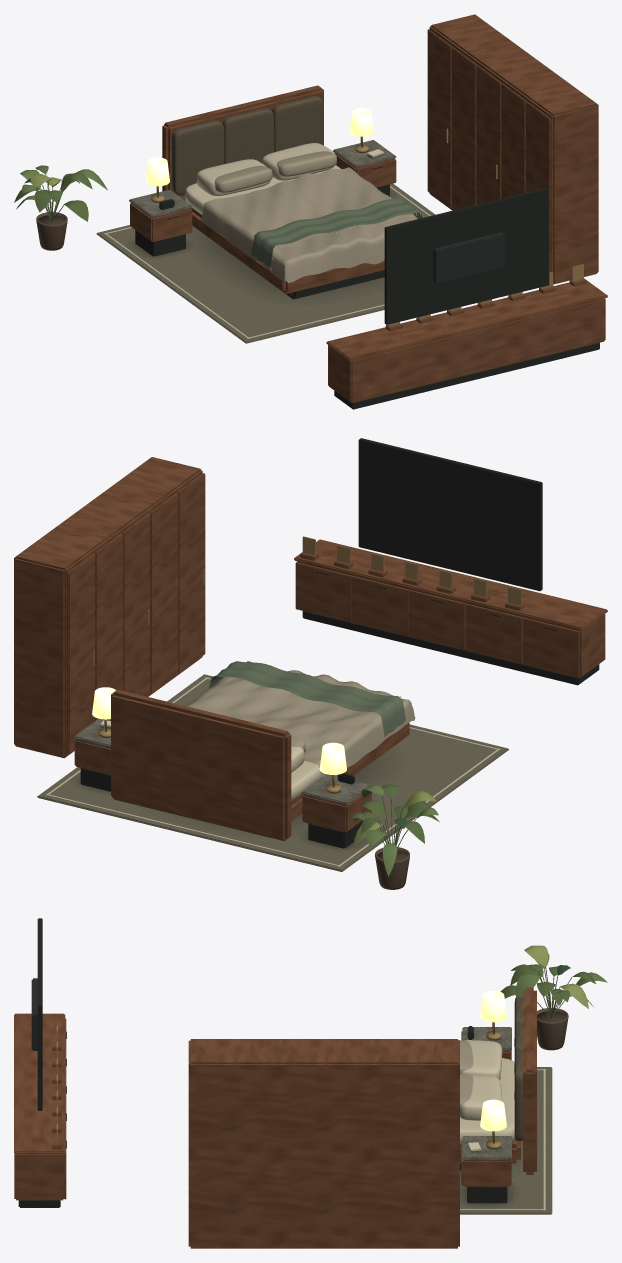
File: bed.glb
3 renders of one model, top to bottom at view 1: azimuth 30°, elevation 25°; view 2: azimuth 150°, elevation 25°; view 3: azimuth 270°, elevation 25°, orthographic. The views are drawn at different scales.
Visible parts, largest first — view 1: M03 | Quarter-cut walnut.002, Hardware | Anthracite.001, M08 | Oyster basketweave.002, M08 | Undyed rug.002, M08 | Umber tweed.002, M08 | Natural flax.002, M08 | Moss linen.002, M06 | Blackened steel.002, Contact | Diffuse grounding.002, M02 | Honed limestone.001, Lighting | Warm linen shade.001, M08 | Leaf 1.002 (+2 smaller); view 2: M03 | Quarter-cut walnut.002, Hardware | Anthracite.001, M08 | Undyed rug.002, M08 | Oyster basketweave.002, M08 | Moss linen.002, M08 | Natural flax.002, Hardware | Dark bronze.002, M02 | Honed limestone.001, M08 | Leaf 1.002, Lighting | Warm linen shade.001, Contact | Diffuse grounding.002, M08 | Leaf 2.002 (+1 smaller); view 3: M03 | Quarter-cut walnut.002, M08 | Undyed rug.002, M08 | Natural flax.002, Hardware | Anthracite.001, M02 | Honed limestone.001, Lighting | Warm linen shade.001, M08 | Umber tweed.002, M08 | Leaf 1.002, Ceramics | Iron glaze.002, M08 | Oyster basketweave.002, M08 | Leaf 3.002, M08 | Leaf 2.002 (+2 smaller).
Boxes of the visible parts, x1=… form: M03 | Quarter-cut walnut.002: x1=130, y1=14, x2=607, y2=402; Hardware | Anthracite.001: x1=135, y1=184, x2=599, y2=409; M08 | Oyster basketweave.002: x1=201, y1=151, x2=417, y2=282; M08 | Undyed rug.002: x1=96, y1=183, x2=435, y2=343; M08 | Umber tweed.002: x1=171, y1=96, x2=323, y2=195; M08 | Natural flax.002: x1=104, y1=143, x2=430, y2=338; M08 | Moss linen.002: x1=251, y1=153, x2=422, y2=266; M06 | Blackened steel.002: x1=166, y1=166, x2=504, y2=283; Contact | Diffuse grounding.002: x1=131, y1=191, x2=394, y2=298; M02 | Honed limestone.001: x1=129, y1=140, x2=396, y2=217; Lighting | Warm linen shade.001: x1=145, y1=107, x2=373, y2=186; M08 | Leaf 1.002: x1=14, y1=165, x2=92, y2=221; M03 | Quarter-cut walnut.002: x1=14, y1=457, x2=607, y2=840; Hardware | Anthracite.001: x1=80, y1=438, x2=599, y2=848; M08 | Undyed rug.002: x1=37, y1=674, x2=508, y2=871; M08 | Oyster basketweave.002: x1=185, y1=661, x2=415, y2=777; M08 | Moss linen.002: x1=100, y1=661, x2=405, y2=737; M08 | Natural flax.002: x1=46, y1=660, x2=500, y2=866; Hardware | Dark bronze.002: x1=92, y1=536, x2=520, y2=793; M02 | Honed limestone.001: x1=73, y1=718, x2=370, y2=805; M08 | Leaf 1.002: x1=347, y1=784, x2=439, y2=843; Lighting | Warm linen shade.001: x1=92, y1=687, x2=346, y2=774; Contact | Diffuse grounding.002: x1=76, y1=755, x2=386, y2=849; M08 | Leaf 2.002: x1=361, y1=785, x2=438, y2=876; M03 | Quarter-cut walnut.002: x1=14, y1=987, x2=536, y2=1248; M08 | Undyed rug.002: x1=460, y1=1067, x2=552, y2=1214; M08 | Natural flax.002: x1=460, y1=1040, x2=545, y2=1210; Hardware | Anthracite.001: x1=18, y1=918, x2=507, y2=1207; M02 | Honed limestone.001: x1=462, y1=1027, x2=511, y2=1159; Lighting | Warm linen shade.001: x1=480, y1=990, x2=506, y2=1131; M08 | Umber tweed.002: x1=514, y1=997, x2=522, y2=1140; M08 | Leaf 1.002: x1=500, y1=964, x2=595, y2=1005; Ceramics | Iron glaze.002: x1=537, y1=1008, x2=568, y2=1050; M08 | Oyster basketweave.002: x1=458, y1=1040, x2=473, y2=1109; M08 | Leaf 3.002: x1=524, y1=945, x2=588, y2=1008; M08 | Leaf 2.002: x1=515, y1=953, x2=607, y2=1006.
Size of the model in its own units: 6.67 by 2.6 by 7.51.
Materials: 20 (8 with a texture image).
